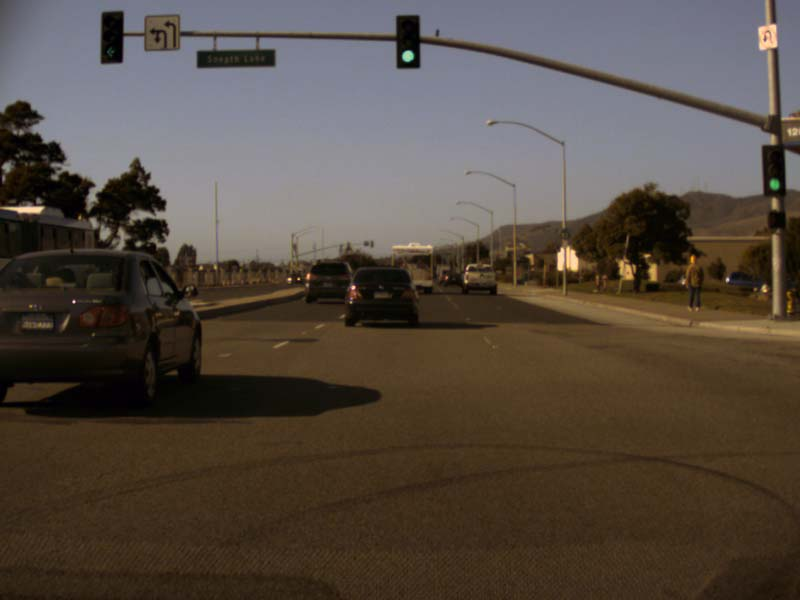Green: (395, 15, 419, 66), (763, 145, 785, 194), (102, 12, 121, 62)
